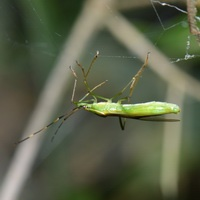insect: (17, 52, 179, 143)
